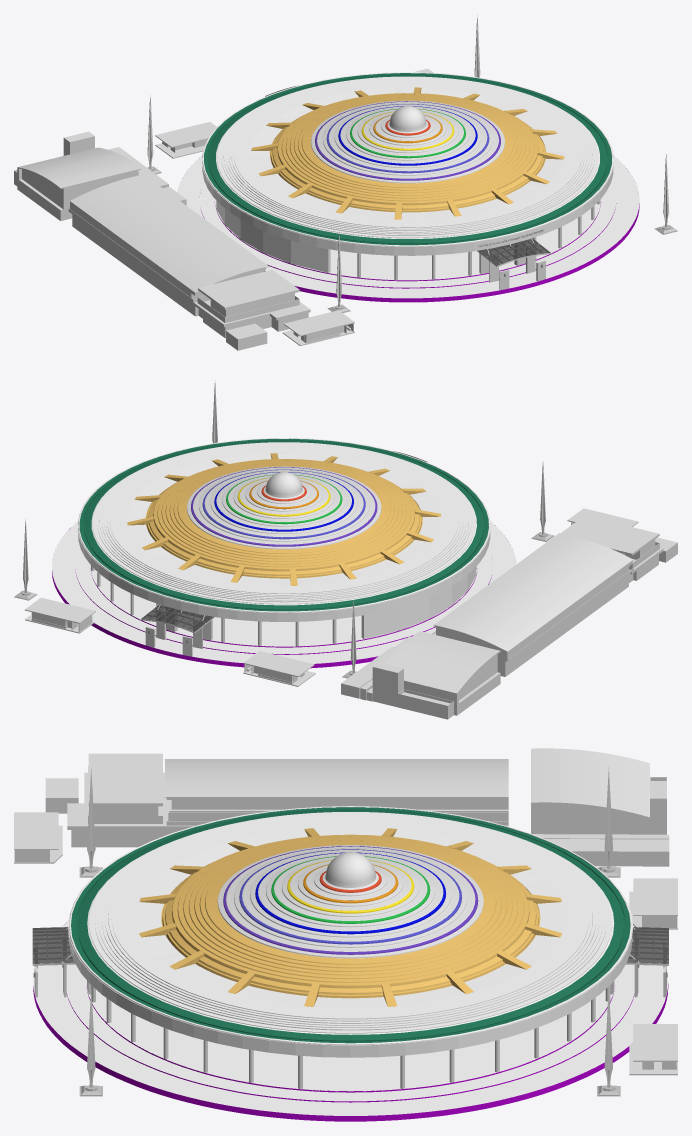
File: horchan.glb
3 renders of one model, top to bottom at view 1: azimuth 30°, elevation 25°; view 2: azimuth 150°, elevation 25°; view 3: azimuth 270°, elevation 25°, orthographic. The views are drawn at different scales.
Visible parts, largest first — view 1: Roof01_Out_Dome, Roof02_Red, Building01, Floor, Roof03_Below, Building03, Wall_Front, Enter, Building07, Building09, Building06; view 2: Roof01_Out_Dome, Roof02_Red, Building01, Floor, Roof03_Below, Building03, Wall_Front, Enter, Building09, Building8, Building04, Building07; view 3: Roof01_Out_Dome, Roof02_Red, Floor, Building01, Roof03_Below, Building03, Enter, Building04, Building8, Building07, Building09, Building06 (+1 smaller).
Part boxes in pixels (x1,y1,x2,y2): Roof01_Out_Dome: (269, 93, 545, 212); Roof02_Red: (216, 76, 599, 238); Building01: (68, 174, 310, 338); Floor: (177, 156, 639, 302); Roof03_Below: (202, 72, 613, 255); Building03: (14, 131, 141, 220); Wall_Front: (216, 200, 330, 272); Enter: (265, 85, 550, 290); Building07: (282, 310, 354, 345); Building09: (155, 122, 216, 158); Building06: (226, 323, 267, 350); Roof01_Out_Dome: (145, 459, 422, 578); Roof02_Red: (91, 442, 476, 605); Building01: (432, 515, 663, 676); Floor: (52, 521, 516, 668); Roof03_Below: (77, 438, 490, 621); Building03: (372, 631, 500, 719); Wall_Front: (361, 566, 476, 639); Enter: (141, 451, 427, 656); Building09: (243, 651, 315, 686); Building8: (24, 597, 95, 633); Building04: (341, 646, 398, 698); Building07: (567, 508, 638, 526); Roof01_Out_Dome: (161, 834, 540, 998); Roof02_Red: (87, 812, 614, 1034); Floor: (33, 920, 668, 1121); Building01: (67, 753, 508, 847); Roof03_Below: (68, 806, 633, 1057); Building03: (531, 748, 666, 834); Enter: (32, 927, 668, 997); Building04: (545, 839, 669, 866); Building8: (629, 1024, 677, 1075); Building07: (14, 812, 62, 863); Building09: (629, 878, 677, 929); Building06: (45, 778, 78, 813).
Size of the model in its own units: 162 by 31.19 by 141.
